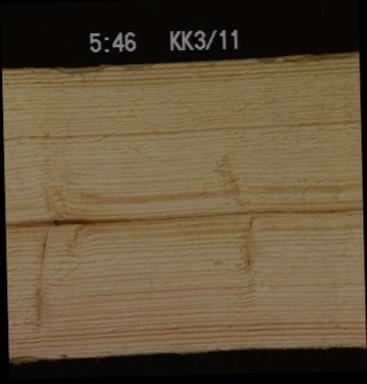split: (4, 210, 362, 224)
wave: (1, 64, 111, 73)
